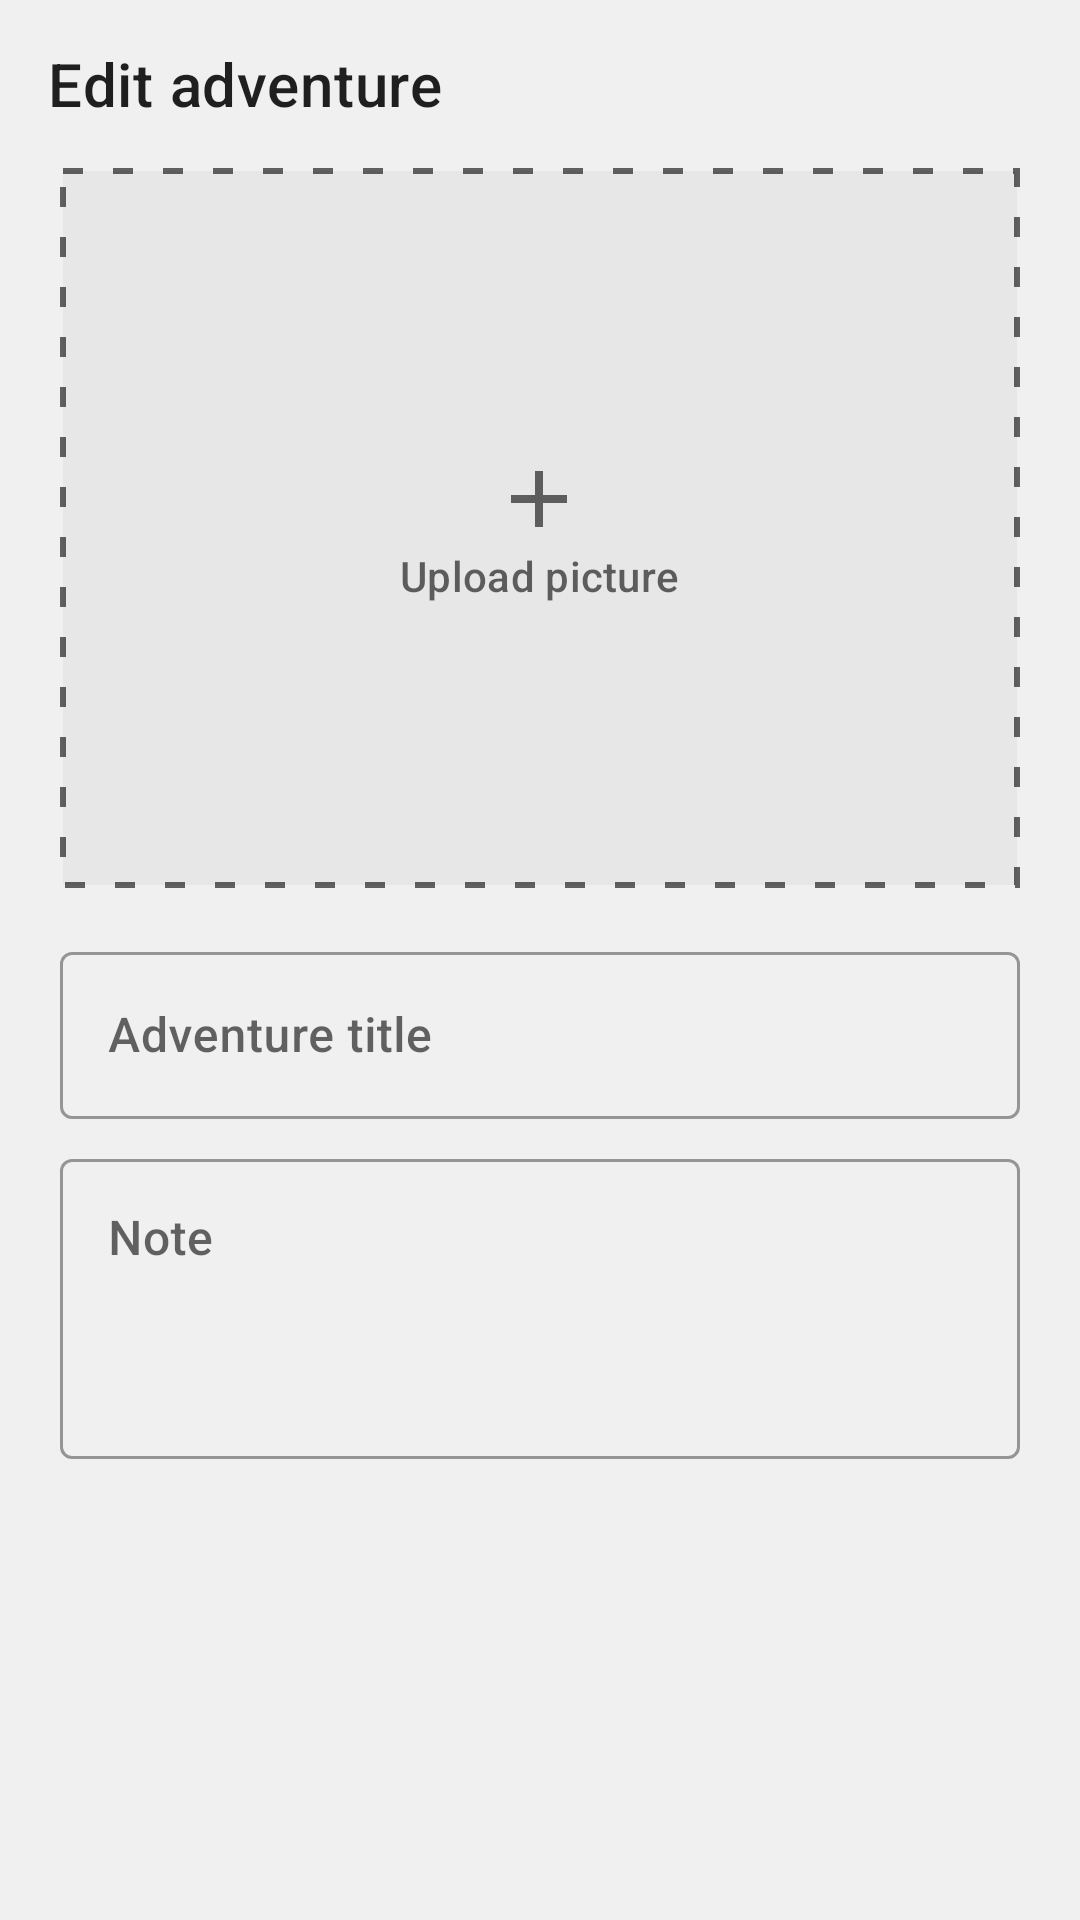

Locate icon controls on the screen. Image size 1080 x 1920, boxes as (x1, y1, x2, y2).
add: (511, 471, 567, 527)
